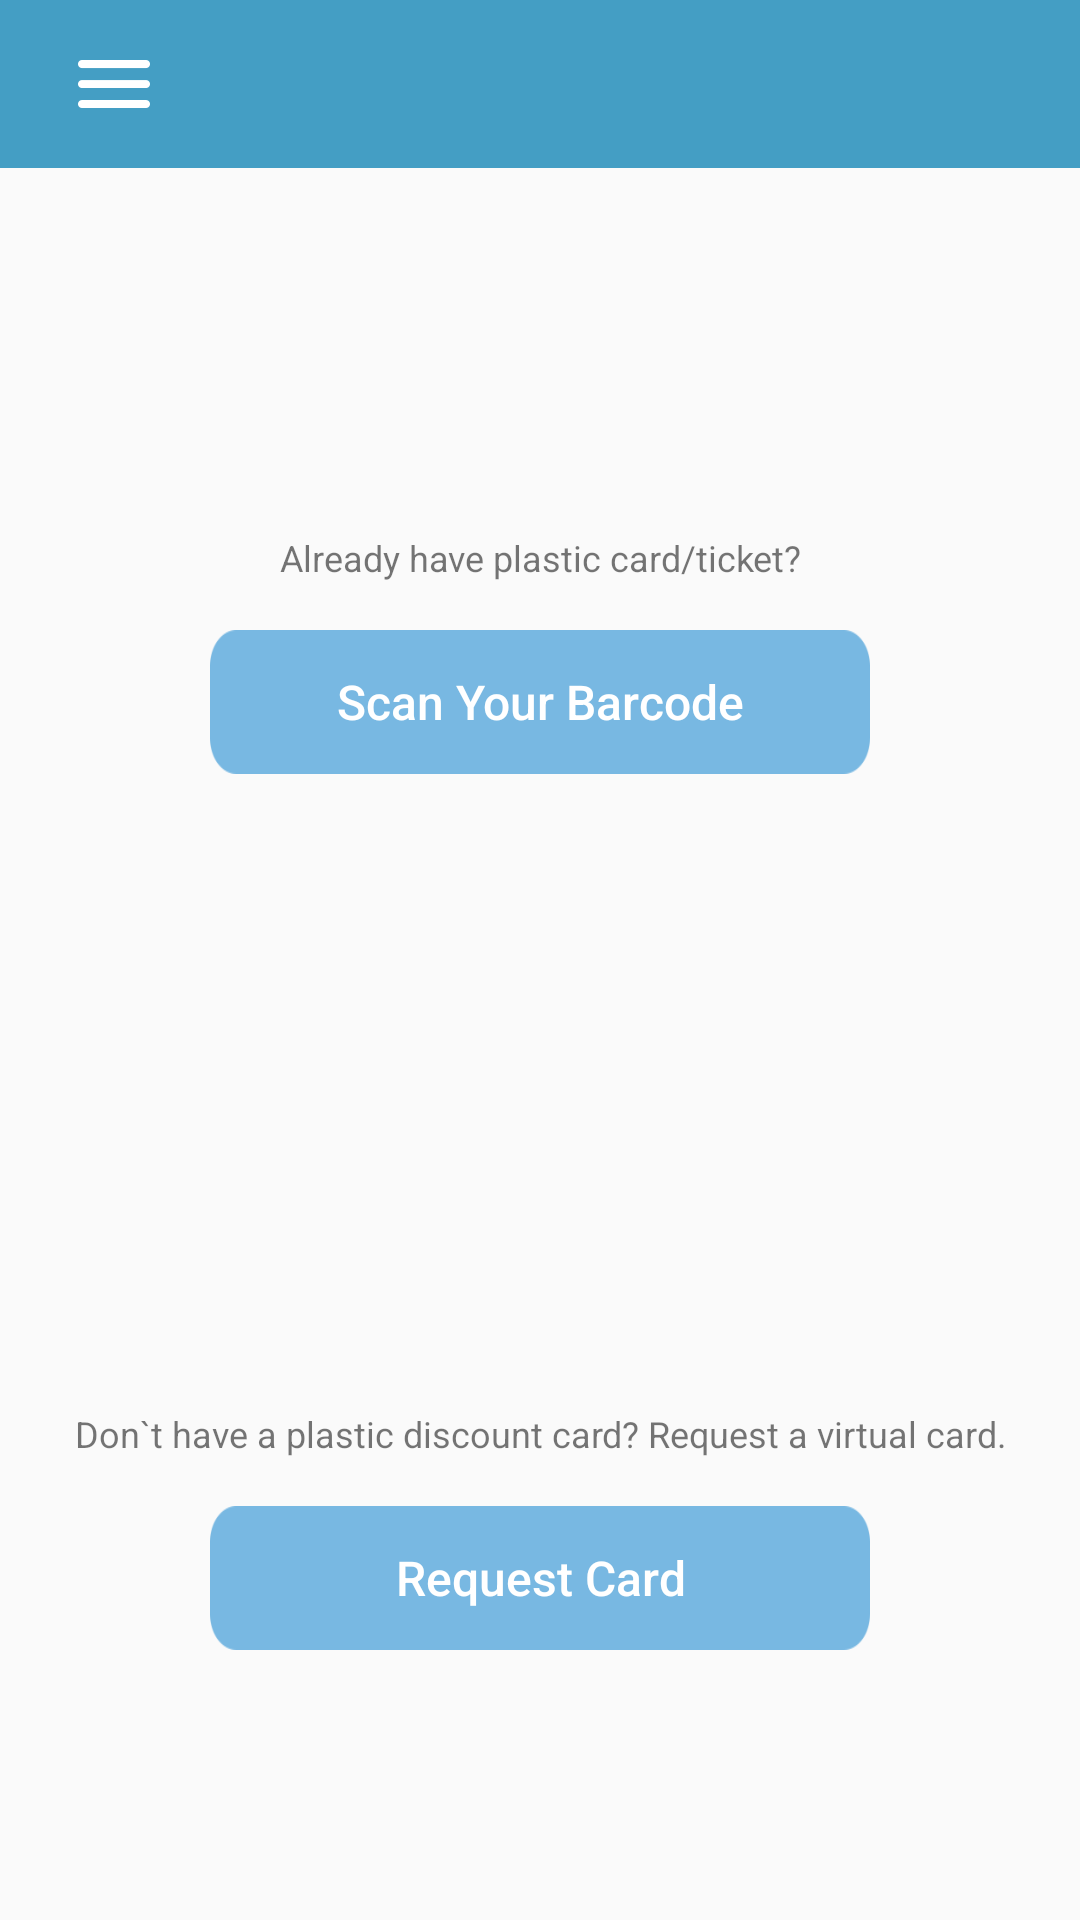

Locate icon controls on the screen. Image size 1080w x 1920h, boxes as (x1, y1, x2, y2).
menu button: (78, 60, 150, 108)
